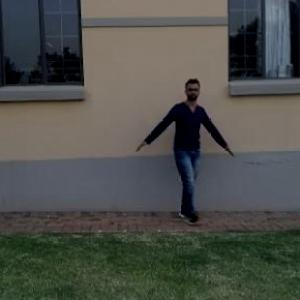land: (131, 83, 230, 233)
